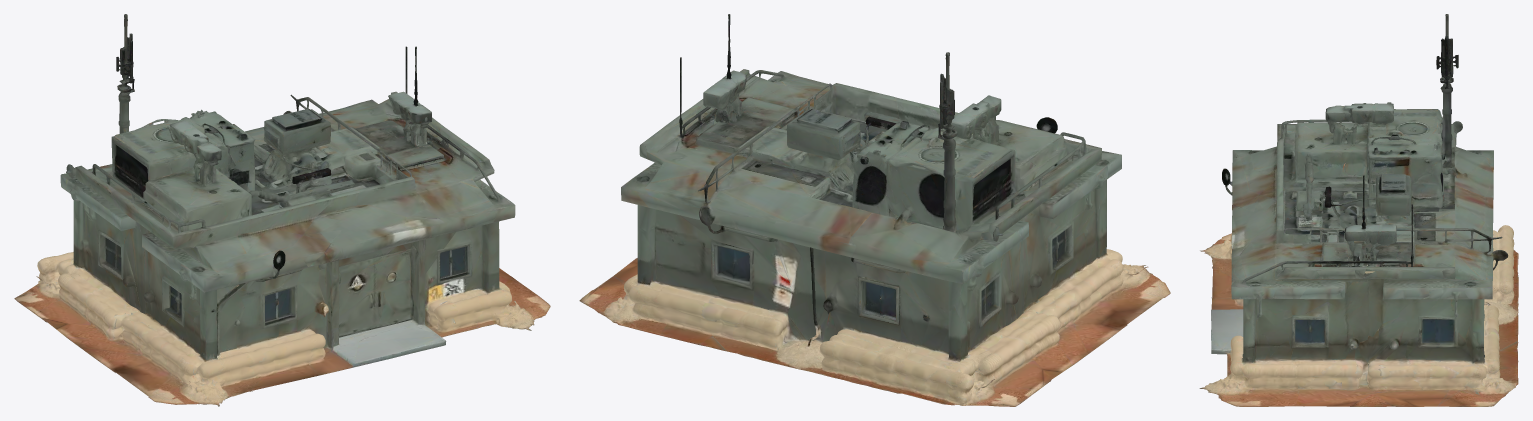
3 renders of one model, left to right at view 1: azimuth 30°, elevation 25°; view 2: azimuth 150°, elevation 25°; view 3: azimuth 270°, elevation 25°, orthographic. The views are drawn at different scales.
Size of the model in its own units: 3.67 by 2.5 by 2.83.
1 material, 1 textured.
